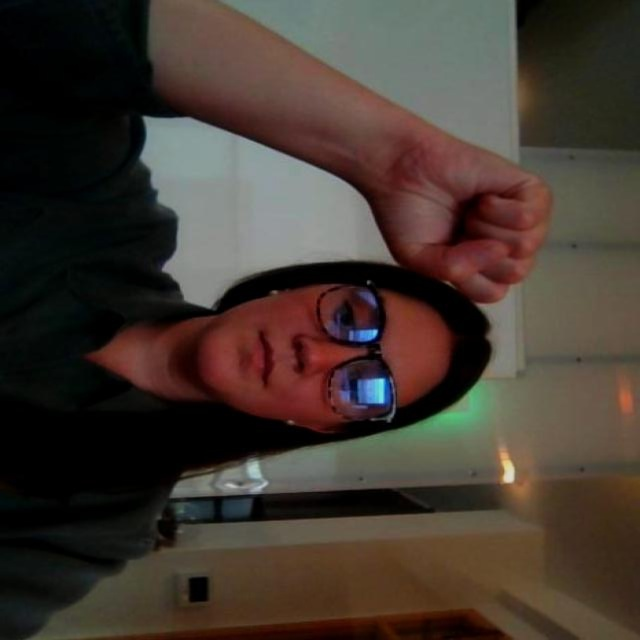Rock: (373, 127, 568, 315)
